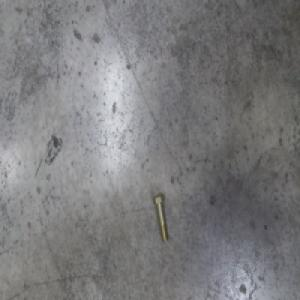Bolt: (152, 192, 169, 243)
